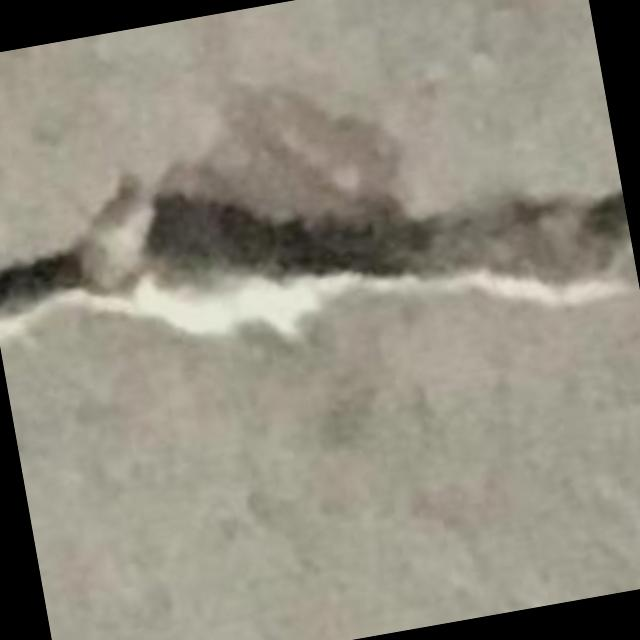crack: (0, 90, 636, 337)
